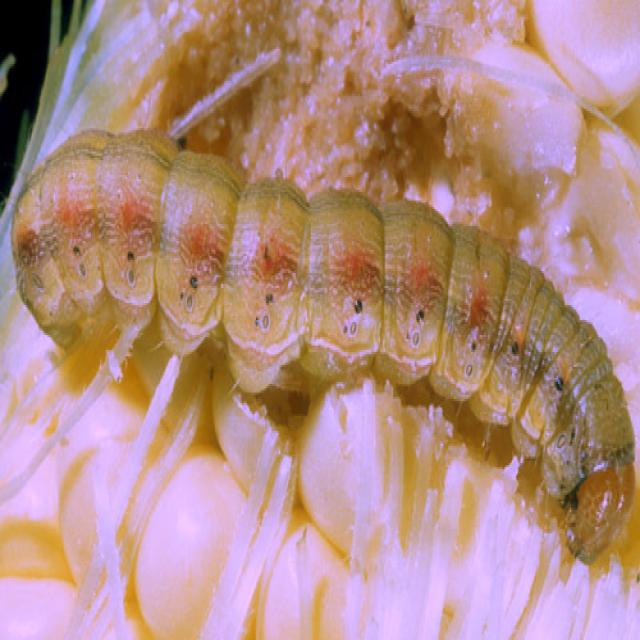Corn-earworm: (15, 132, 640, 562)
